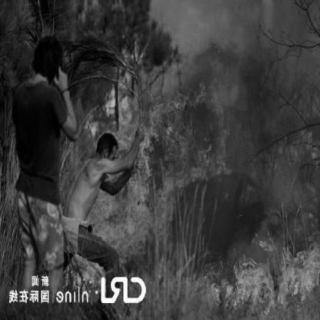Fire: (59, 38, 235, 294), (205, 217, 317, 315)
